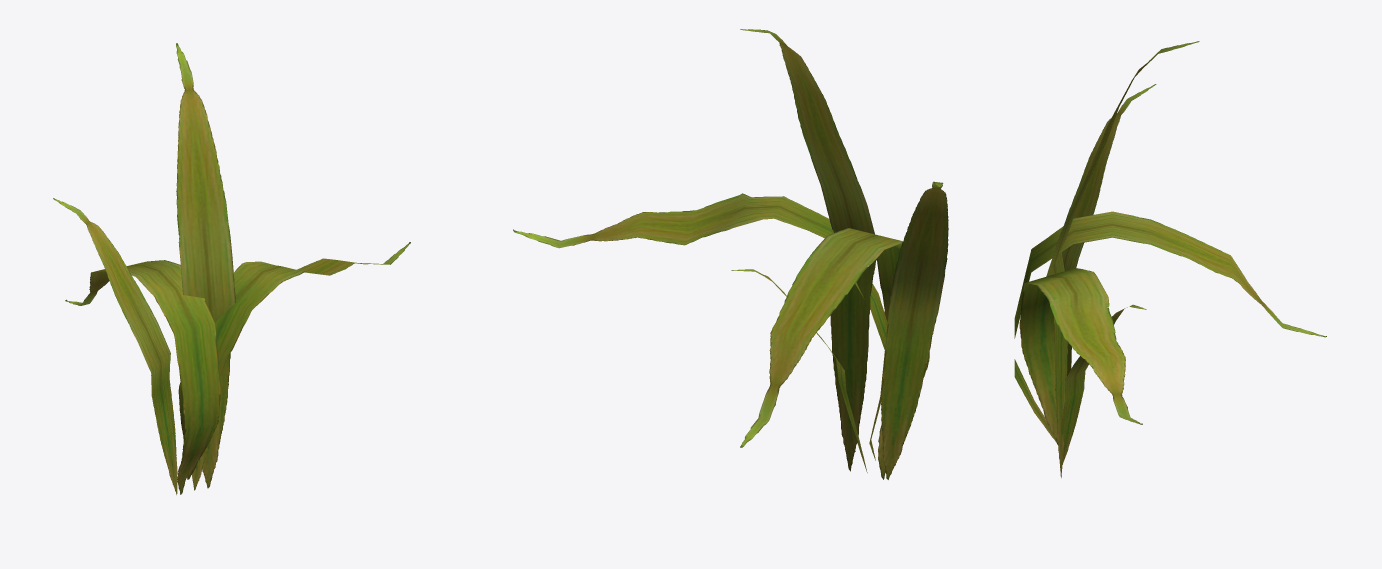
The model's file is GrassClump01.fbx.
3 views of the same model, side by side, from view 1: azimuth 30°, elevation 25°; view 2: azimuth 150°, elevation 25°; view 3: azimuth 270°, elevation 25° (orthographic). The views are drawn at different scales.
Visible parts, largest first — view 1: GrassClump01; view 2: GrassClump01; view 3: GrassClump01.
Part boxes in pixels (x1,y1,x2,y2): GrassClump01: (53,43,410,494); GrassClump01: (513,29,948,479); GrassClump01: (1014,41,1326,477).
Size of the model in its own units: 4.19 by 4.47 by 2.79.
